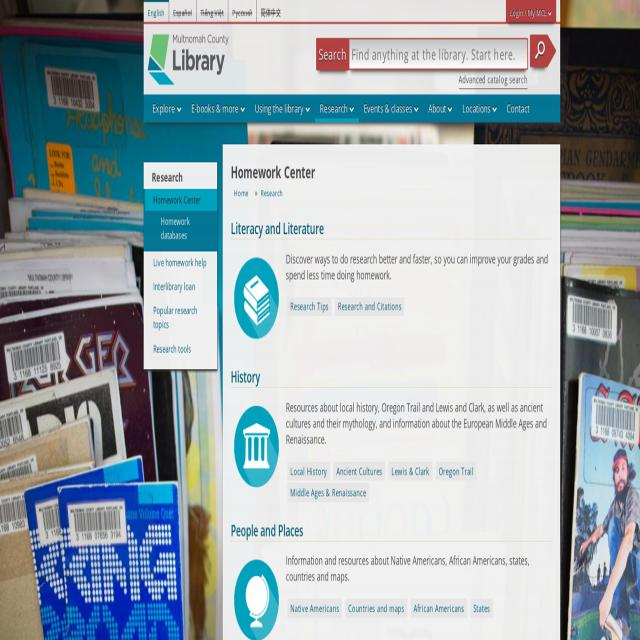button: (231, 252, 282, 344), (231, 401, 282, 493), (230, 554, 283, 640), (148, 33, 229, 86), (144, 212, 218, 252), (145, 300, 217, 336), (250, 94, 315, 122), (186, 94, 250, 122), (359, 94, 423, 122), (145, 189, 217, 211), (145, 338, 217, 360), (145, 252, 217, 273), (145, 276, 217, 297), (287, 484, 369, 502), (335, 297, 405, 316), (457, 94, 502, 122), (315, 94, 359, 122), (345, 599, 407, 618), (506, 0, 556, 22), (148, 94, 186, 122), (411, 599, 467, 618), (288, 599, 342, 618), (423, 94, 458, 122), (334, 462, 384, 481), (502, 94, 534, 122), (530, 35, 557, 67), (288, 297, 332, 316), (388, 462, 432, 481), (288, 462, 330, 481), (436, 462, 476, 481), (196, 1, 228, 21), (257, 0, 285, 22), (169, 0, 196, 21), (229, 0, 256, 20), (144, 0, 168, 22), (471, 599, 493, 618)
field: (350, 39, 528, 71)
